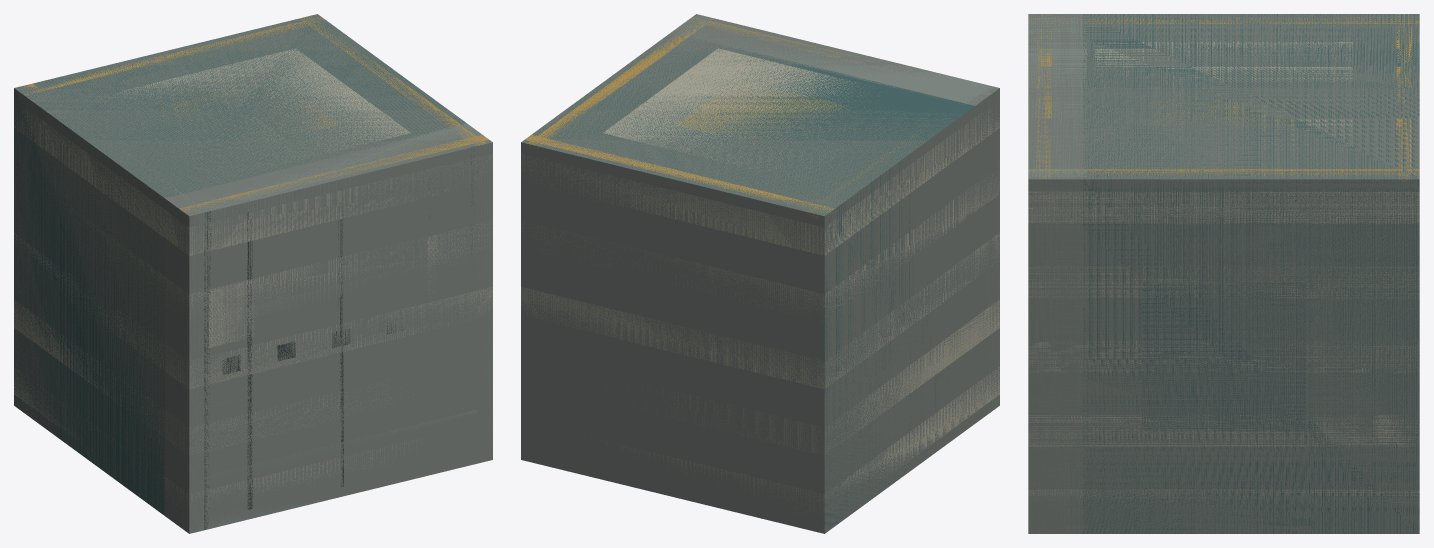
File: Rainline_Dressing_v1.glb
3 views of the same model, side by side, from view 1: azimuth 30°, elevation 25°; view 2: azimuth 150°, elevation 25°; view 3: azimuth 270°, elevation 25° (orthographic). The views are drawn at different scales.
Parts seen in each view (by area): view 1: plinth__surface, pipe__surface, insulator__surface, canopy__surface, tire__surface, vehicle_chassis__surface, bench__surface; view 2: plinth__surface, insulator__surface, pipe__surface, canopy__surface; view 3: plinth__surface, pipe__surface, insulator__surface, tire__surface, canopy__surface.
Boxes of the visible parts, bbox=[...] form: plinth__surface: bbox=[14, 14, 492, 533]; pipe__surface: bbox=[14, 14, 492, 533]; insulator__surface: bbox=[14, 48, 492, 513]; canopy__surface: bbox=[20, 17, 488, 218]; tire__surface: bbox=[204, 175, 477, 481]; vehicle_chassis__surface: bbox=[209, 235, 452, 347]; bench__surface: bbox=[247, 189, 343, 509]; plinth__surface: bbox=[521, 14, 999, 533]; insulator__surface: bbox=[521, 48, 999, 522]; pipe__surface: bbox=[522, 14, 999, 533]; canopy__surface: bbox=[525, 16, 996, 218]; plinth__surface: bbox=[1028, 14, 1419, 533]; pipe__surface: bbox=[1028, 14, 1419, 533]; insulator__surface: bbox=[1028, 42, 1419, 508]; tire__surface: bbox=[1142, 282, 1305, 430]; canopy__surface: bbox=[1028, 14, 1419, 182].
Size of the model in its own units: 1 by 1 by 1.
